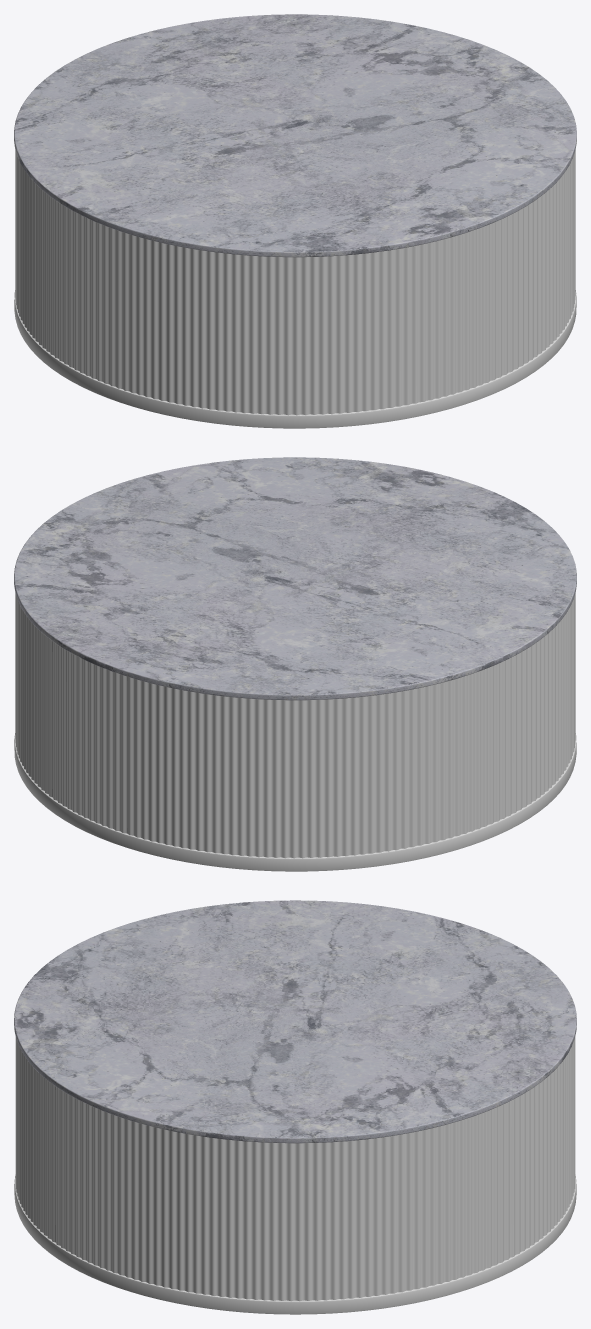
File: table basse white marble r45l35.fbx
3 renders of one model, top to bottom at view 1: azimuth 30°, elevation 25°; view 2: azimuth 150°, elevation 25°; view 3: azimuth 270°, elevation 25°, orthographic.
Visible parts, largest first — view 1: Object002; view 2: Object002; view 3: Object002.
Part boxes in pixels (bbox=[...]): Object002: bbox=[14, 14, 576, 428]; Object002: bbox=[14, 457, 576, 871]; Object002: bbox=[14, 900, 576, 1314].
Bounding box in the file's own units: 0.0009 × 0.00033 × 0.0009.
2 materials, 1 textured.
